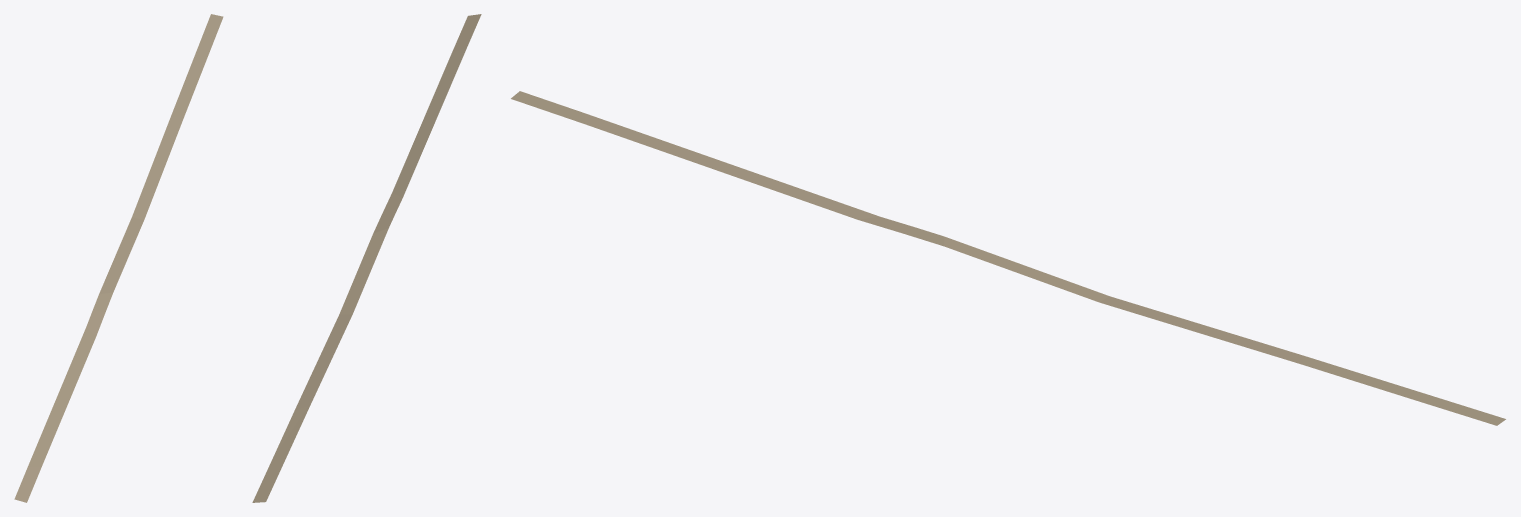
The model's file is farm_-24_-20_track.glb.
3 views of the same model, side by side, from view 1: azimuth 30°, elevation 25°; view 2: azimuth 210°, elevation 25°; view 3: azimuth 270°, elevation 25° (orthographic). The views are drawn at different scales.
Visible parts, largest first — view 1: geometry_0; view 2: geometry_0; view 3: geometry_0.
Boxes of the visible parts, left/top/right/bottom form: geometry_0: left=14, top=14, right=223, bottom=502; geometry_0: left=252, top=14, right=481, bottom=502; geometry_0: left=511, top=91, right=1505, bottom=425.
Bounding box in the file's own units: 188 × 6.47 × 222.
